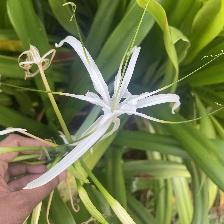spider lily: (59, 35, 183, 158)
